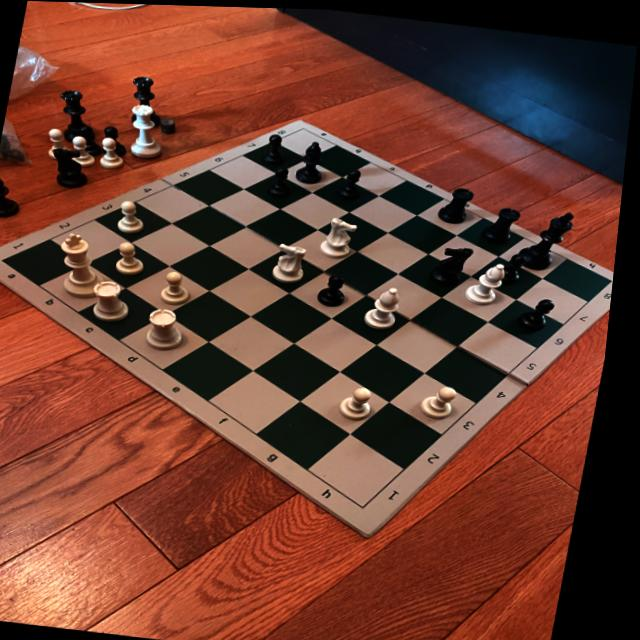Chessboard-Corners: (362, 499, 384, 511), (0, 253, 17, 267), (295, 124, 318, 134), (608, 270, 619, 286)
